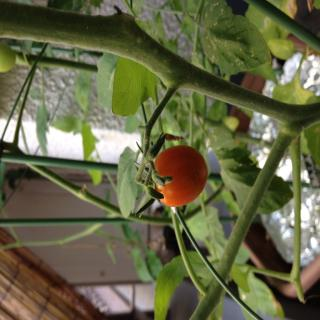tomato: (148, 138, 215, 207)
